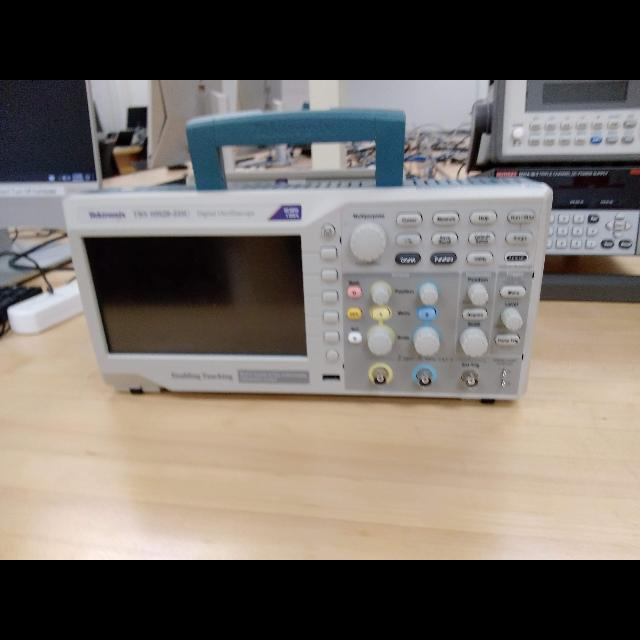Digital-Oscilloscope: (63, 194, 546, 399)
